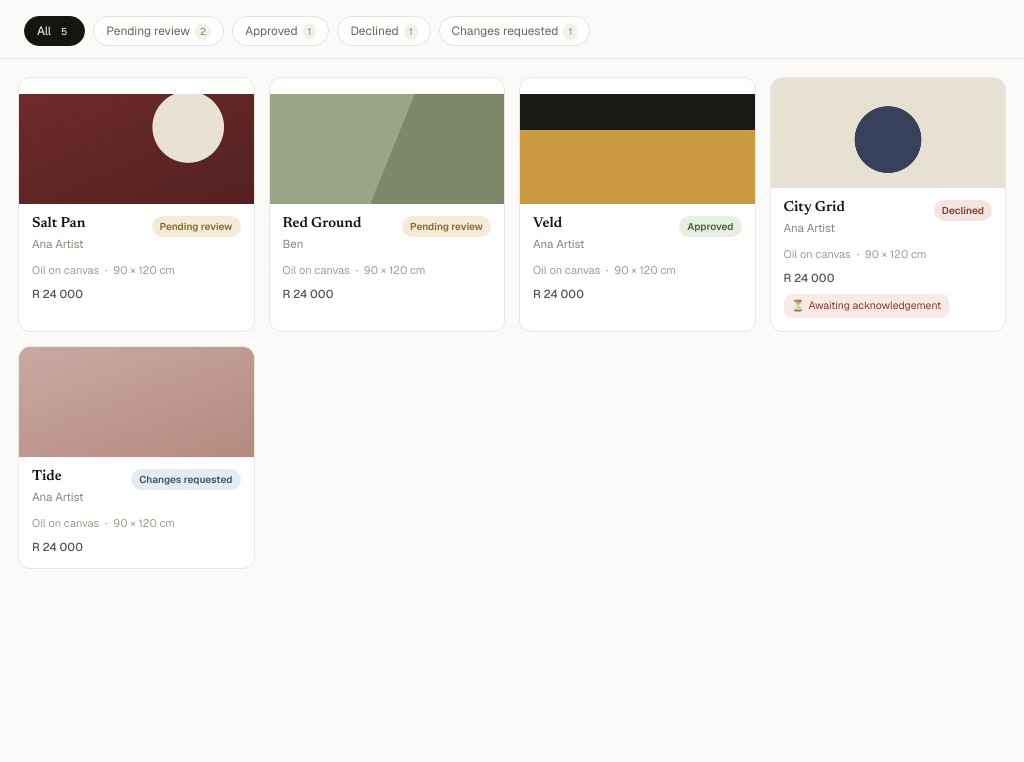
Scenario: SubmissionsPanel reviewing › declines with a note and marks it awaiting acknowledgement
The width and height of the screenshot is (1024, 762).
Click the text "Red Ground" at (322, 224), box [282,215,362,233]
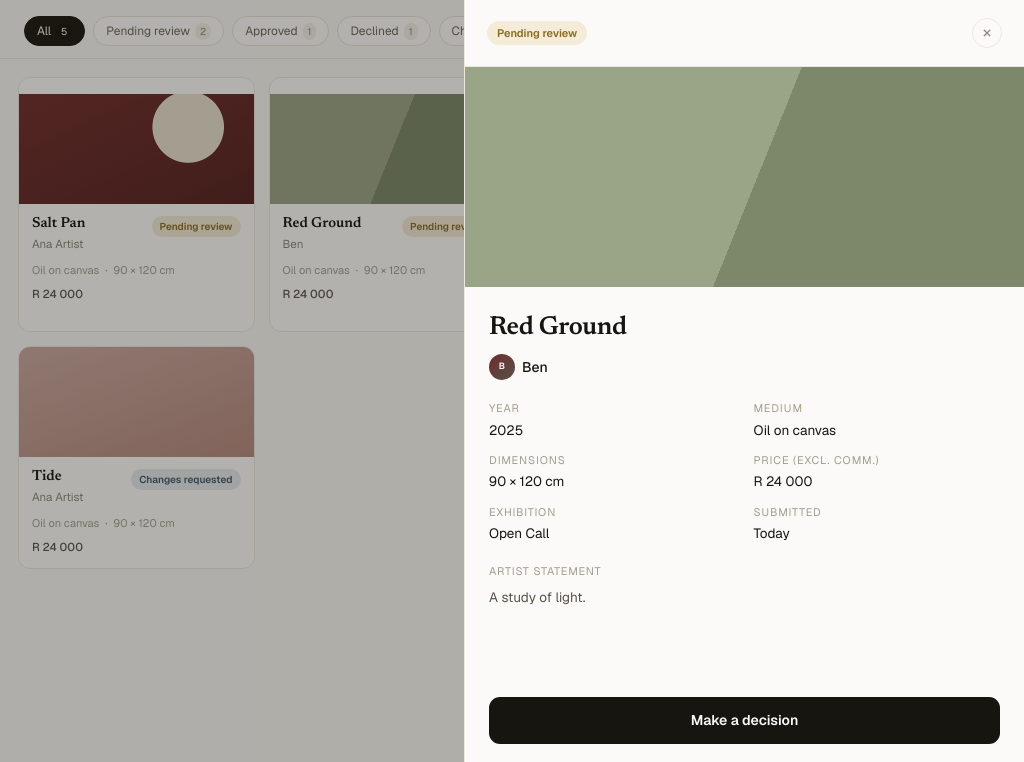
Click the button "Make a decision" at (744, 720), box [489,697,1000,744]
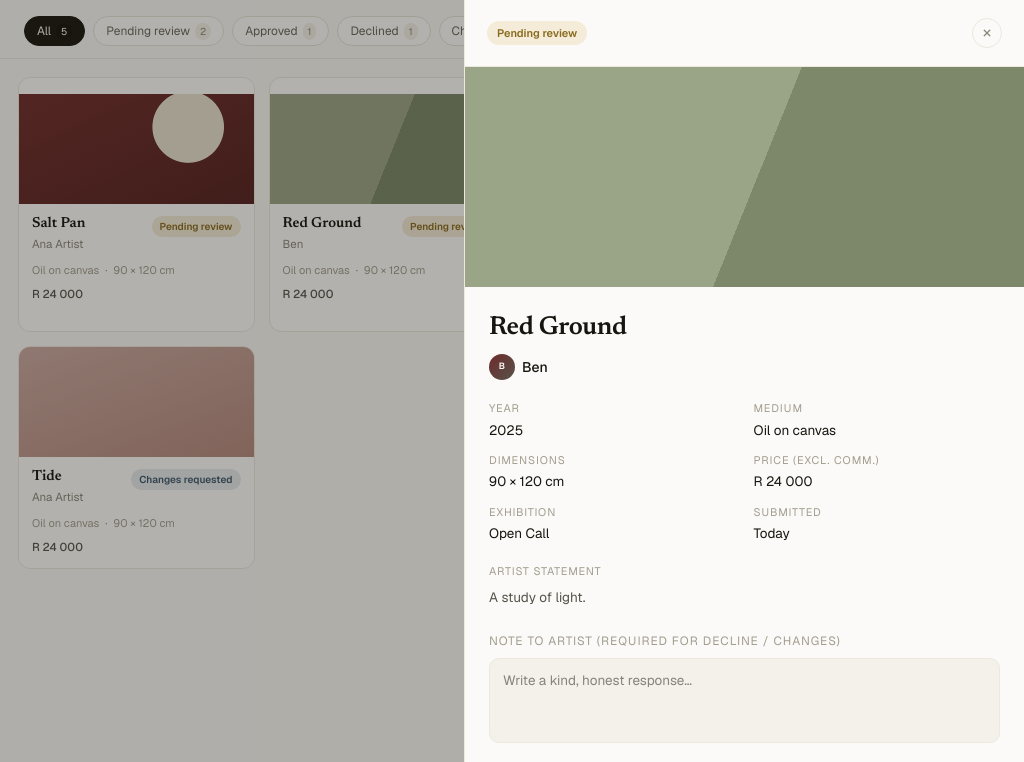
Type "Sorry" into the text box with placeholder "Write a kind, honest response…" at (744, 700), box [489,658,1000,743]
(page scrolled)
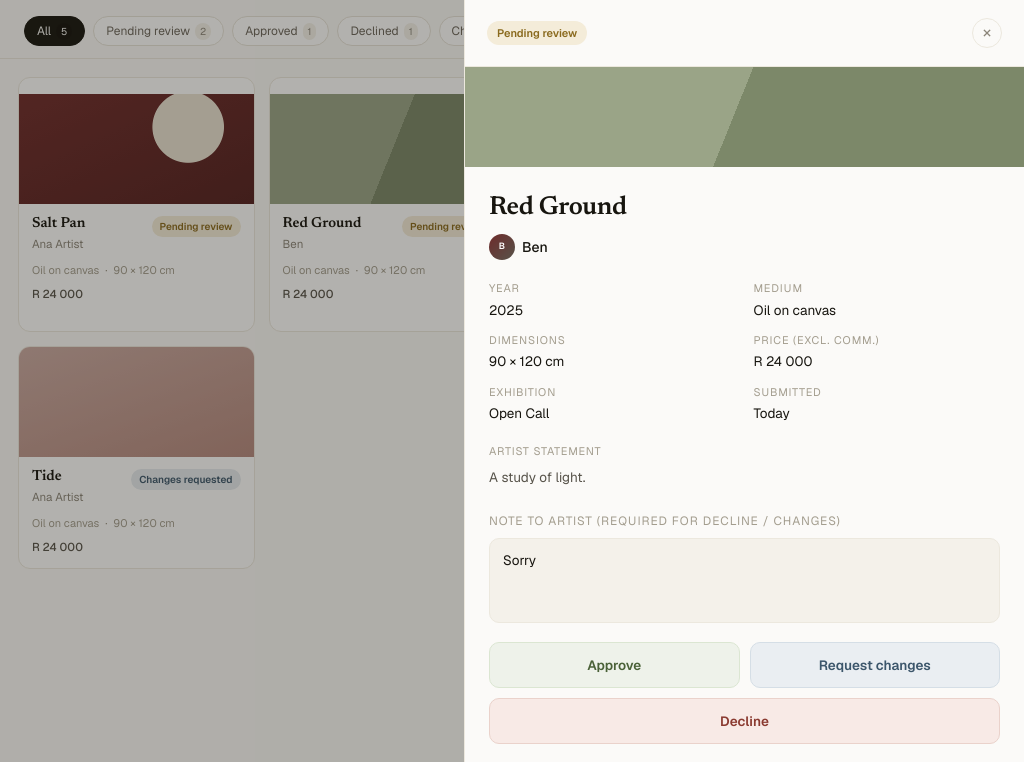
Click the button "Decline" at (744, 721), box [489,698,1000,744]
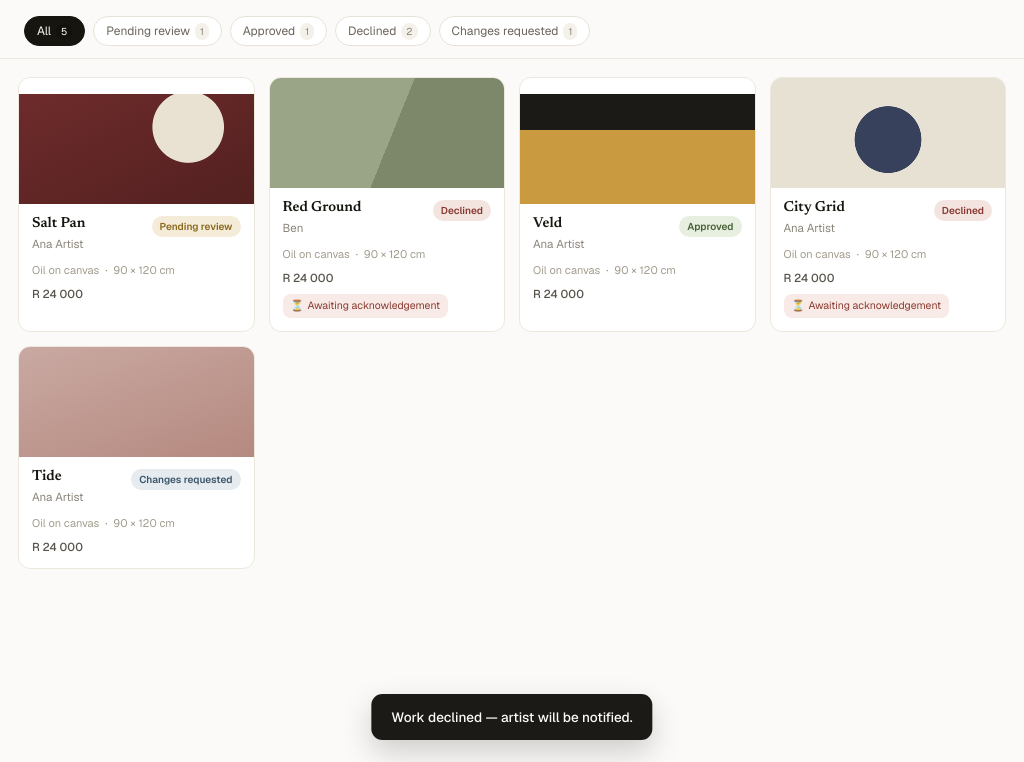
Expected: the text "Work declined — artist will be notified." is shown, [371,694,653,740]
Expected: the text "⏳ Awaiting acknowledgement" is shown 2 times, [282,294,448,318]; [784,294,949,318]
